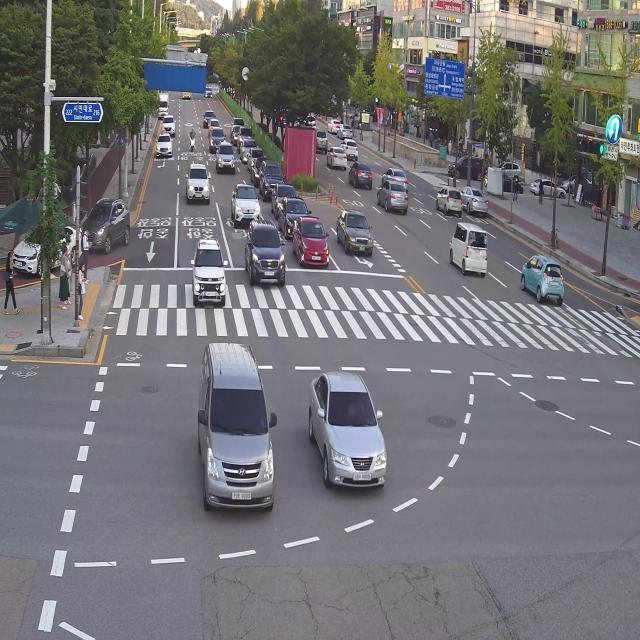Car: (182, 340, 282, 541), (297, 362, 395, 509), (11, 208, 85, 274), (182, 224, 232, 316), (242, 208, 292, 292), (510, 254, 576, 317), (81, 192, 142, 260), (329, 196, 381, 268), (441, 218, 503, 278), (288, 210, 336, 280), (372, 170, 416, 224), (225, 177, 264, 233), (433, 171, 468, 218), (186, 158, 212, 219), (455, 181, 496, 217), (347, 156, 382, 197), (280, 193, 310, 236), (447, 153, 488, 184), (339, 130, 371, 163), (260, 156, 284, 200), (271, 179, 297, 219), (216, 134, 238, 180), (528, 175, 565, 201), (322, 139, 349, 173), (383, 165, 409, 195), (489, 157, 521, 180), (494, 175, 527, 196), (153, 128, 174, 160), (312, 123, 331, 158), (210, 123, 228, 153), (236, 126, 256, 151), (160, 110, 177, 139), (247, 146, 266, 170), (240, 135, 256, 163), (251, 155, 266, 183), (561, 170, 579, 193), (326, 116, 342, 135), (336, 123, 353, 139), (202, 107, 215, 127), (229, 112, 242, 129), (229, 121, 239, 142), (203, 84, 213, 102), (208, 115, 219, 131)
Motorcycle: (187, 126, 200, 157)
Truck: (158, 91, 169, 118)
